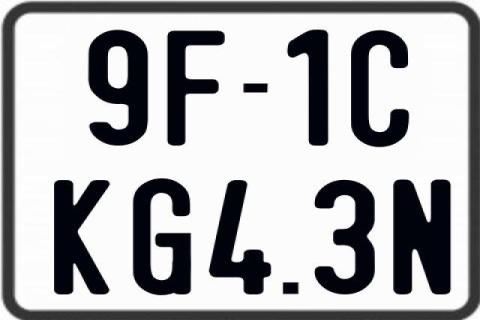0: (206, 180, 272, 298), (88, 29, 148, 149), (312, 179, 373, 296), (287, 28, 331, 146)
C: (348, 28, 407, 146)
F: (164, 30, 223, 150)
G: (132, 179, 192, 299)
K: (54, 179, 116, 296)
N: (391, 178, 449, 298)
